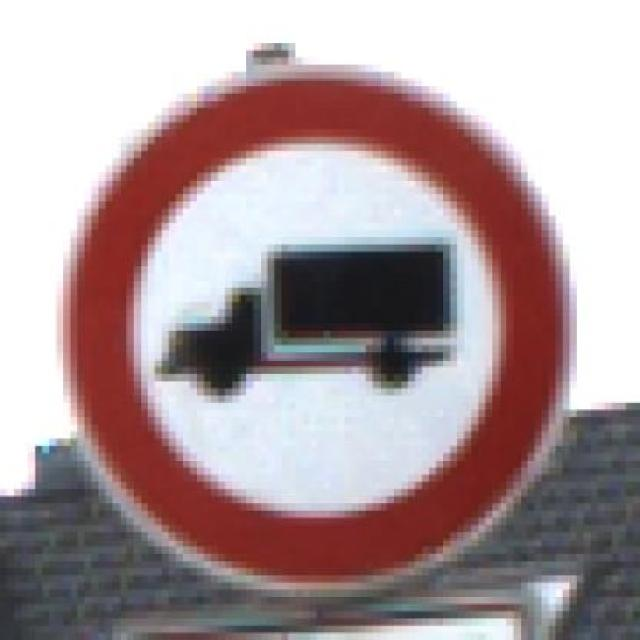Truck traffic is prohibited: (28, 43, 598, 597)
